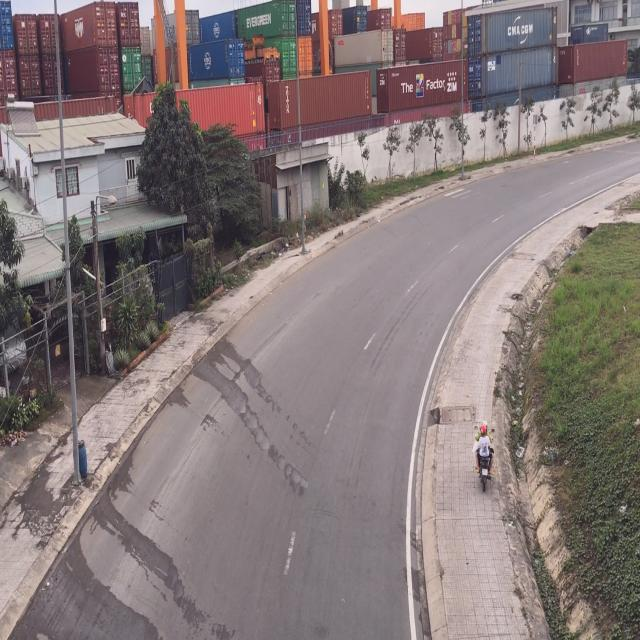motorbike: (474, 420, 495, 495)
